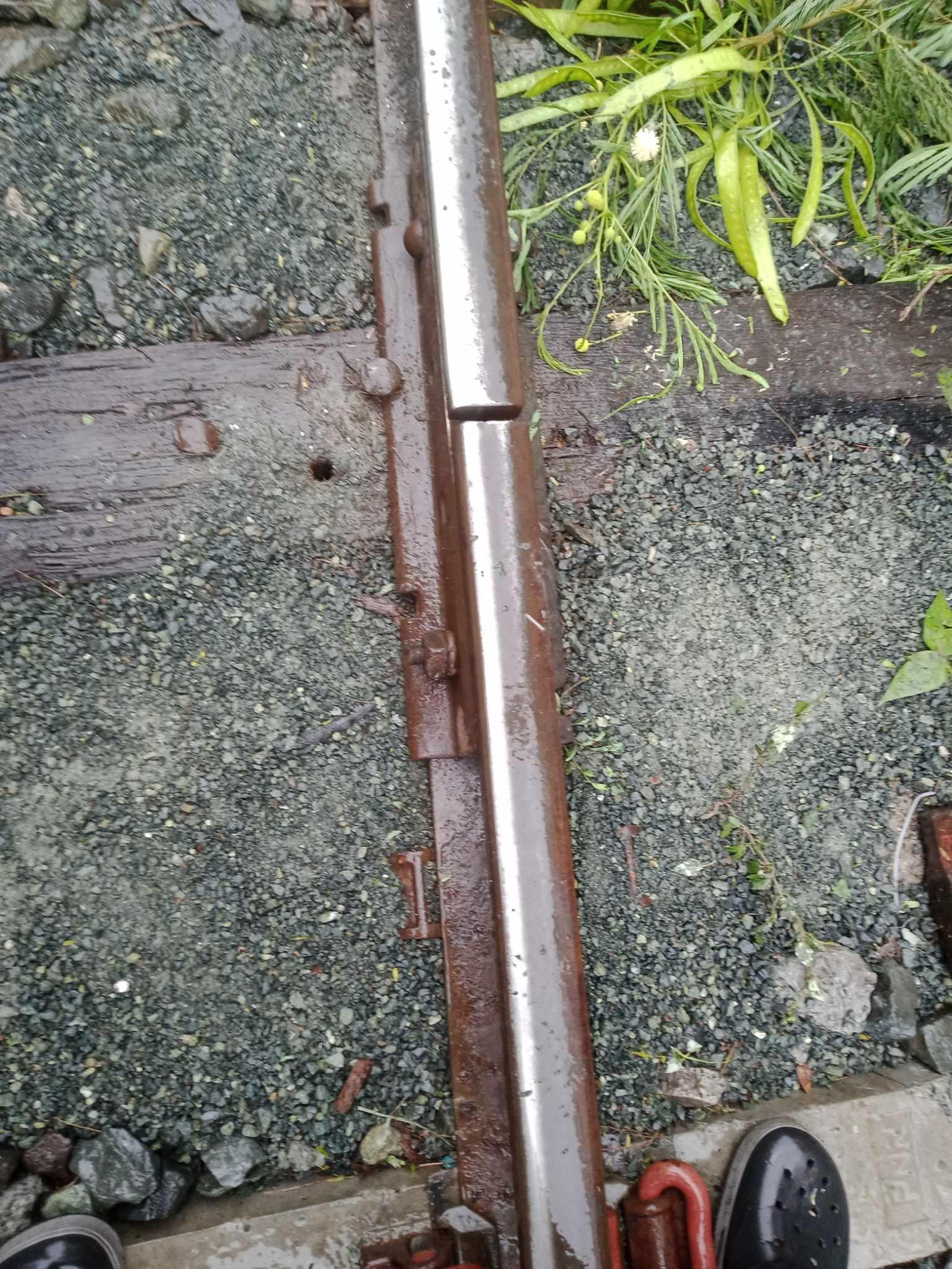railway-gap: (387, 328, 578, 502)
